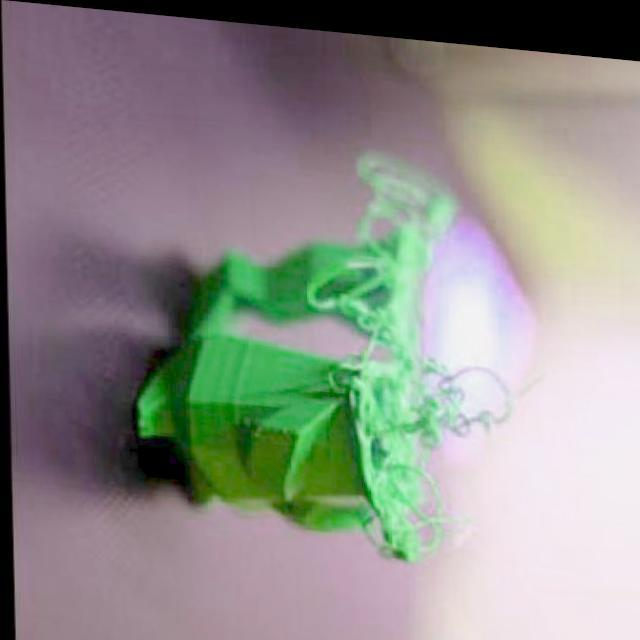spaghetti: (317, 334, 550, 577)
